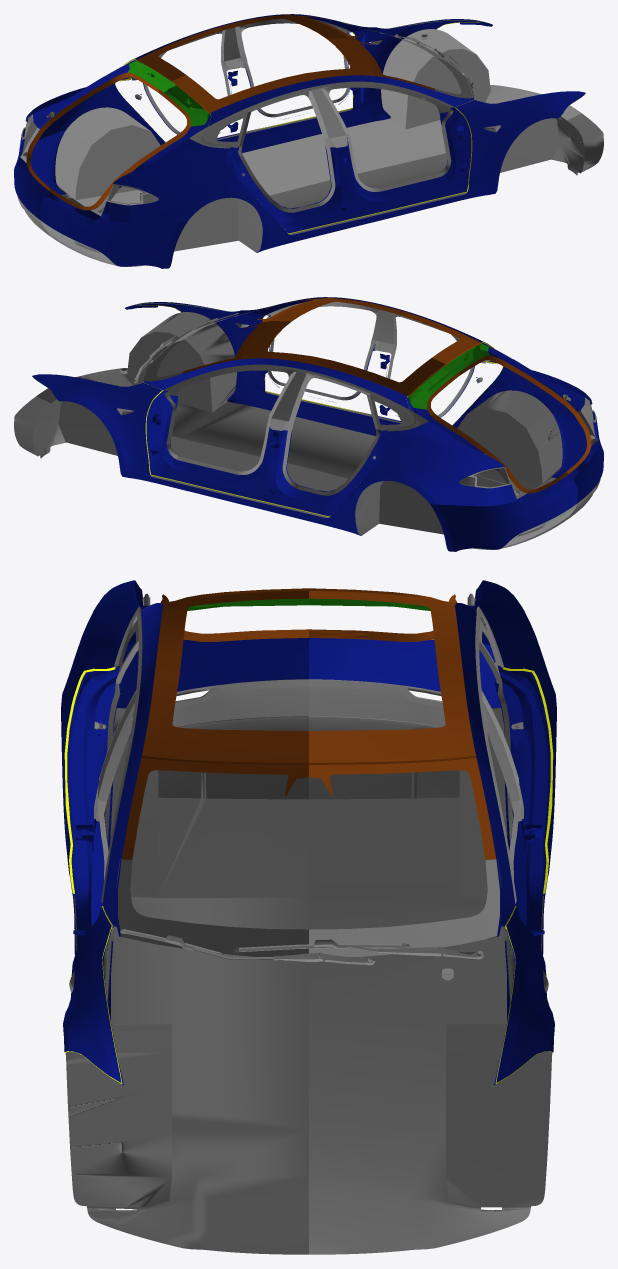
Rendered from Body.obj.
3 views of the same model, one above another, from view 1: azimuth 30°, elevation 25°; view 2: azimuth 150°, elevation 25°; view 3: azimuth 270°, elevation 25° (orthographic). The views are drawn at different scales.
Parts seen in each view (by area): view 1: Body; view 2: Body; view 3: Body.
Part boxes in pixels (bbox=[...]): Body: bbox=[14, 14, 603, 268]; Body: bbox=[14, 297, 603, 551]; Body: bbox=[61, 580, 556, 1254].
Bounding box in the file's own units: 4.94 × 1.31 × 1.96.
